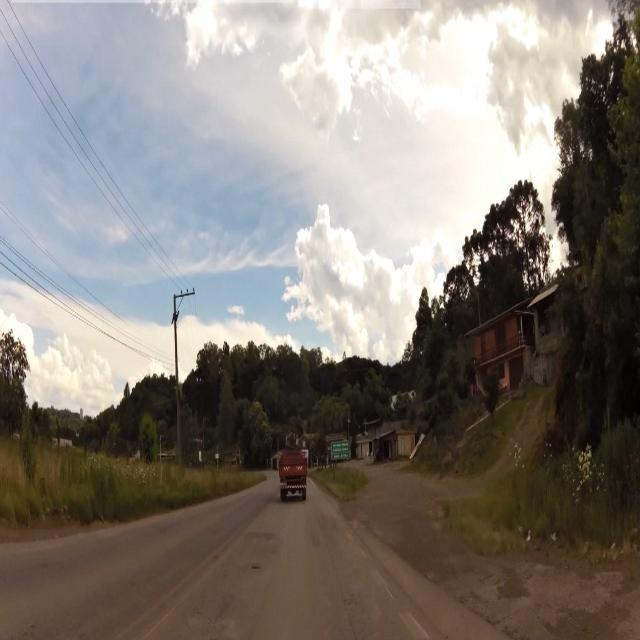I-4: (333, 444, 350, 460)
